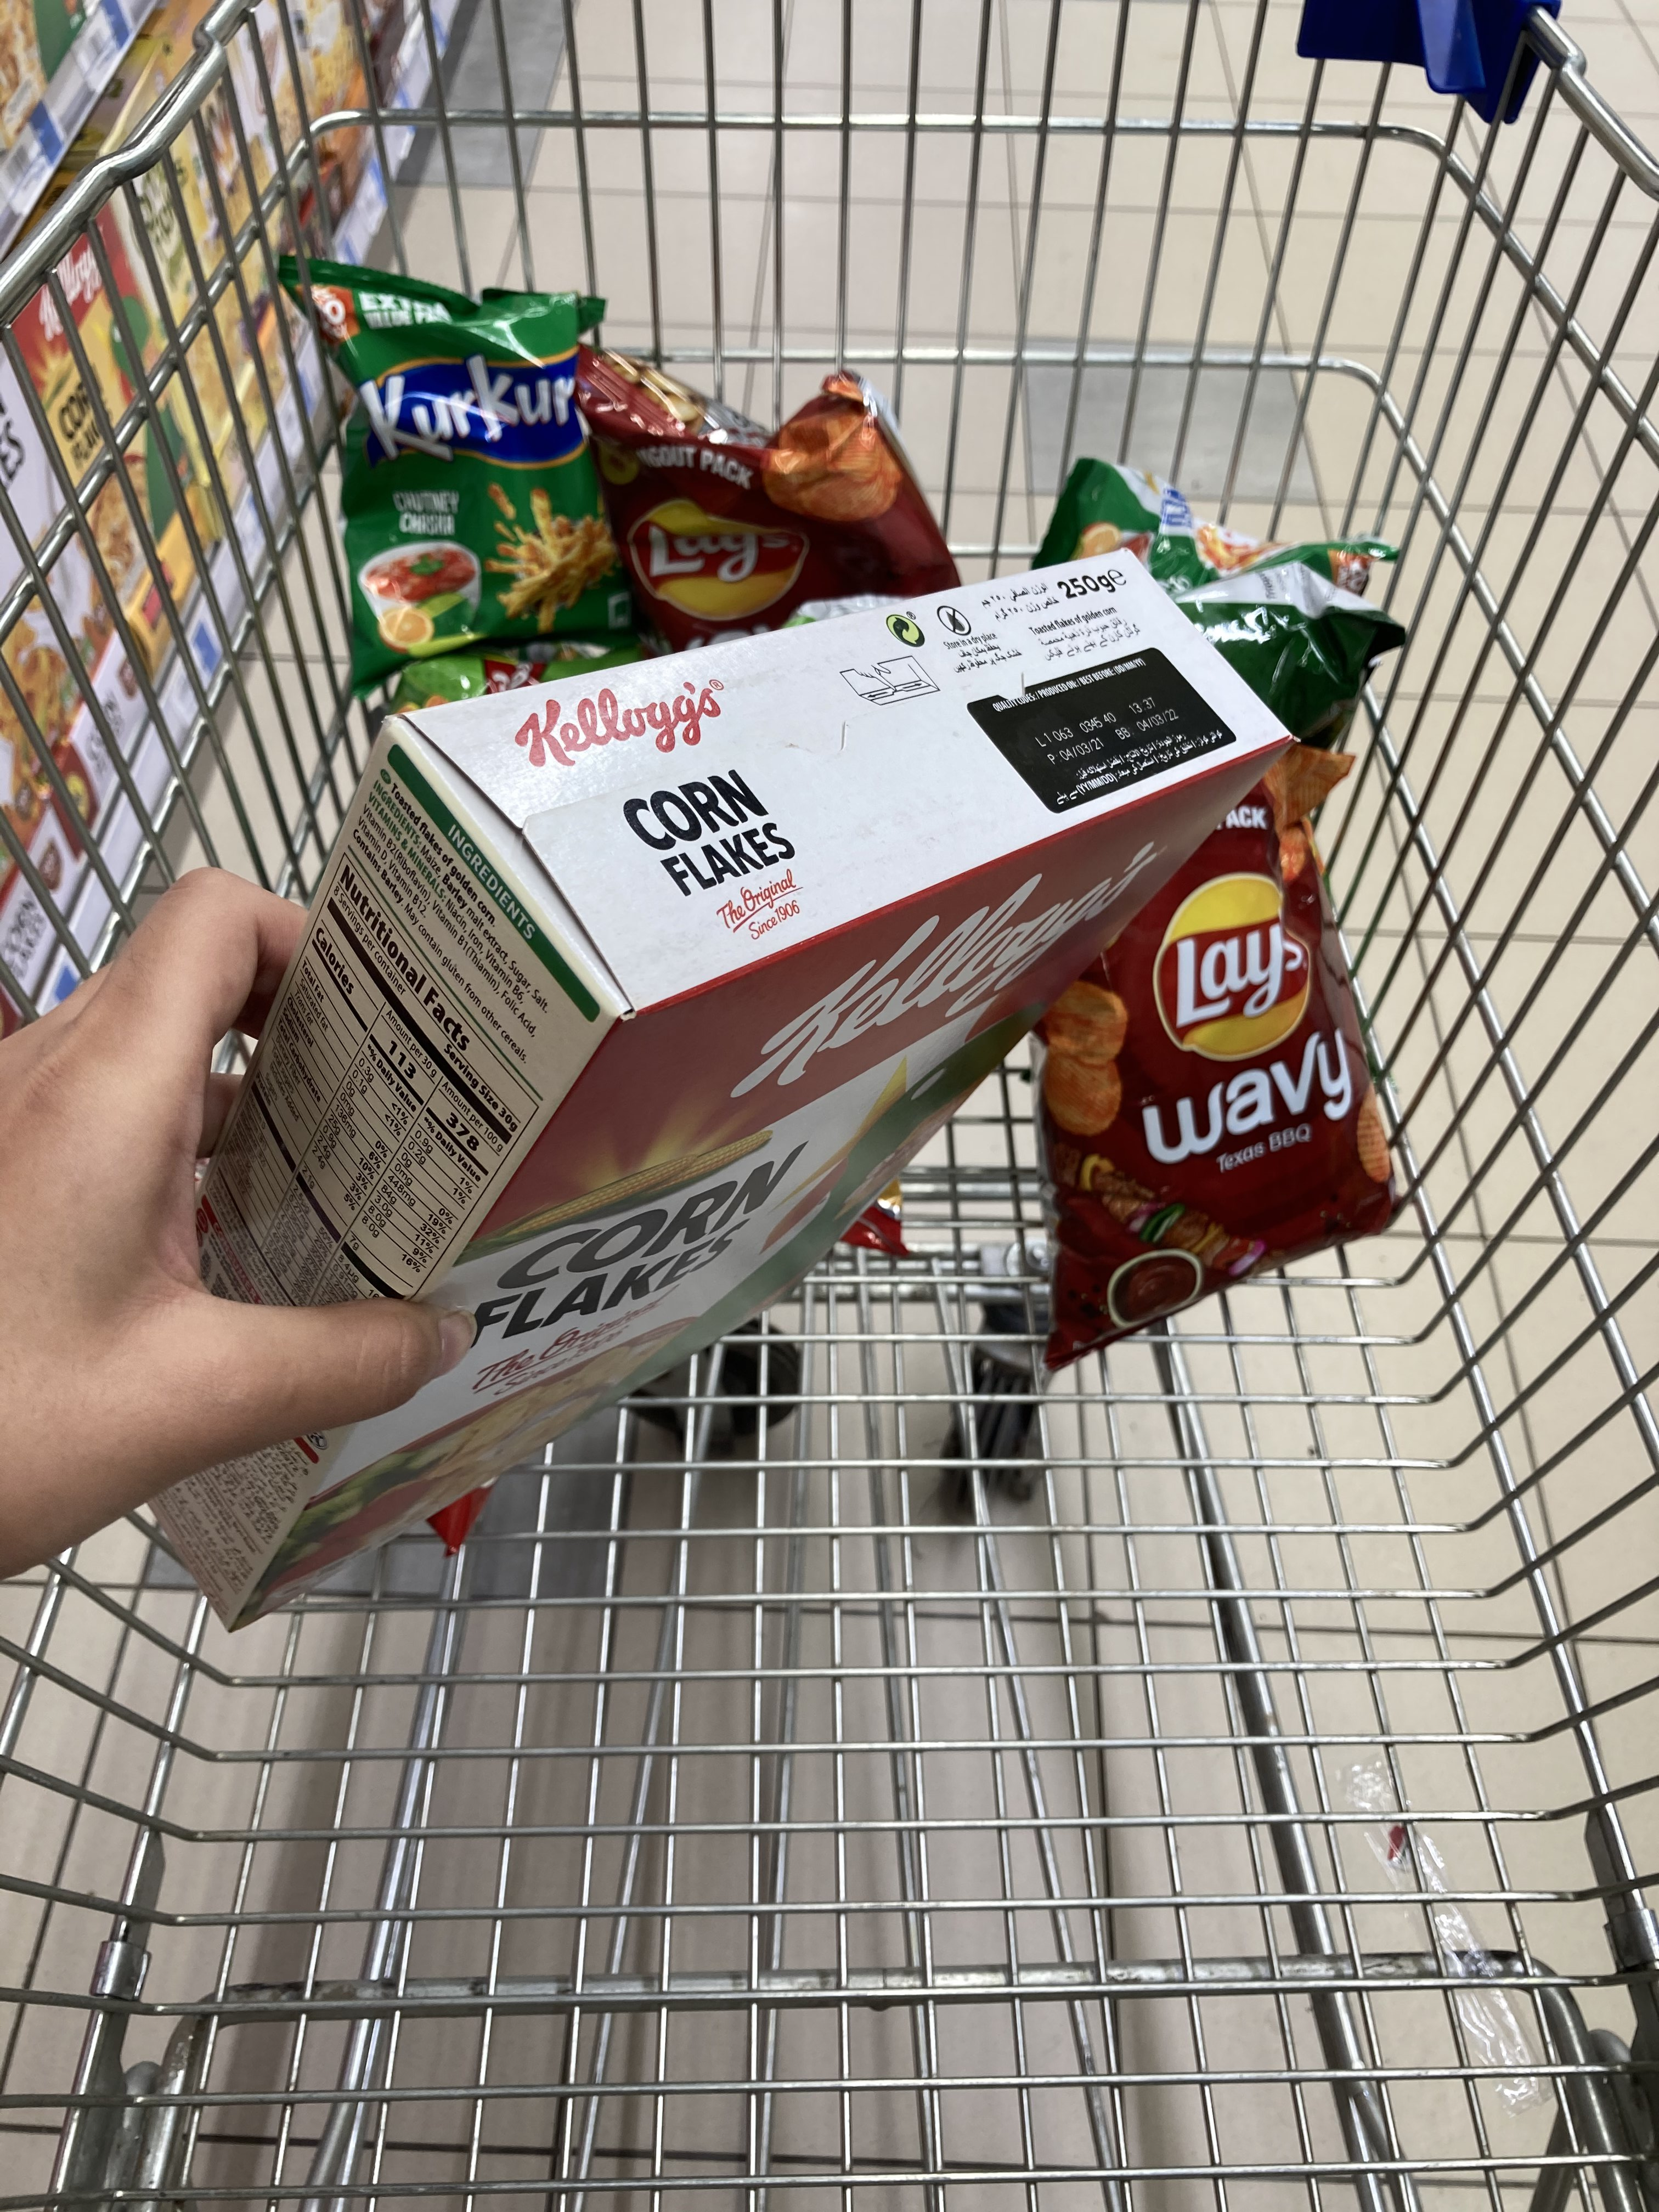Kellogg's Corn Flakes: (176, 543, 1295, 1599)
